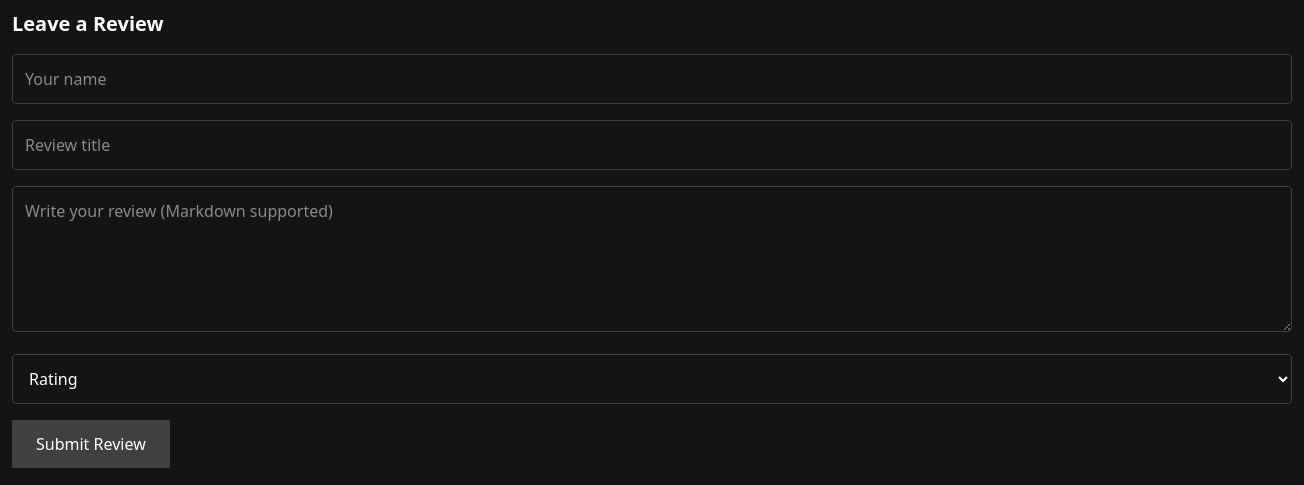
Scenario: ReviewForm › enables the submit button when the form is valid
Type "John Doe" into the field with placeholder "Your name".
click(652, 79); type("John Doe")  # box [12,54,1292,104]
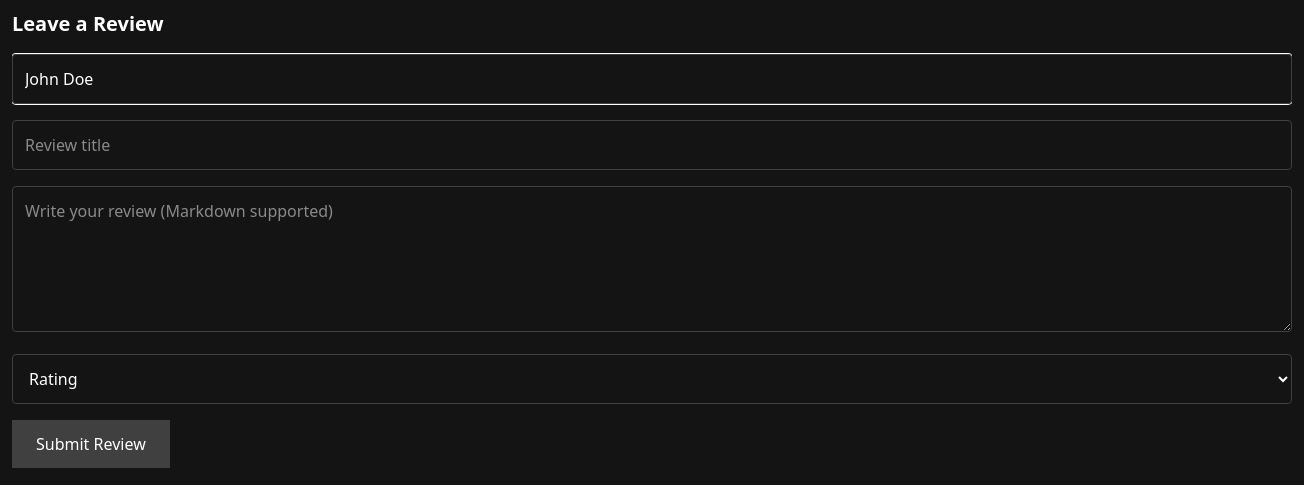
Type "Great Show" into the field with placeholder "Review title".
click(652, 145); type("Great Show")  # box [12,120,1292,170]
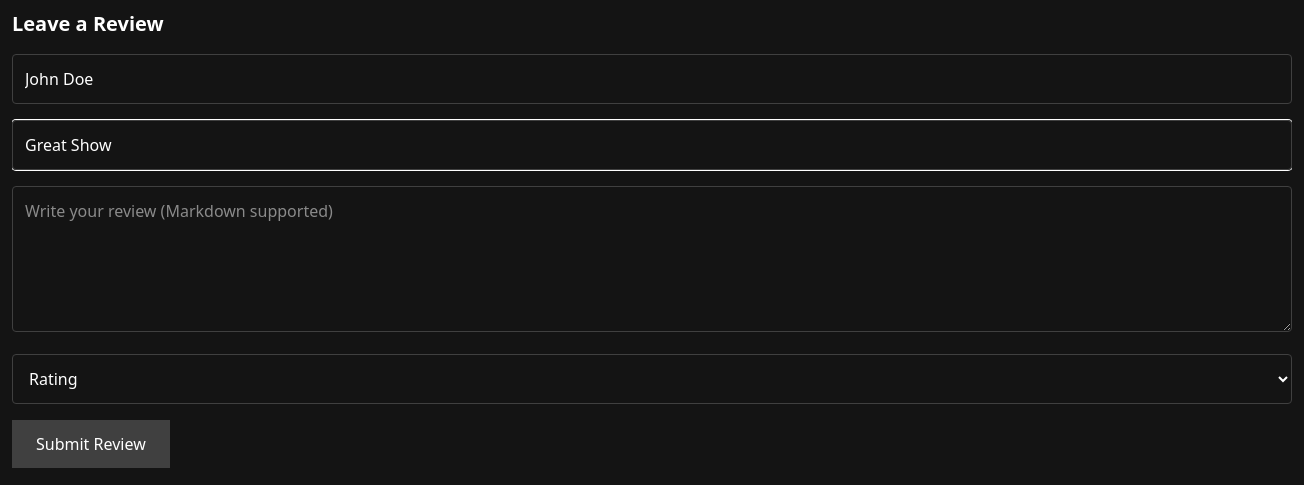
Type "This is a long enough review for testing." into the text box with placeholder "Write your review (Markdown supported)".
click(652, 259); type("This is a long enough review for testing.")  # box [12,186,1292,332]
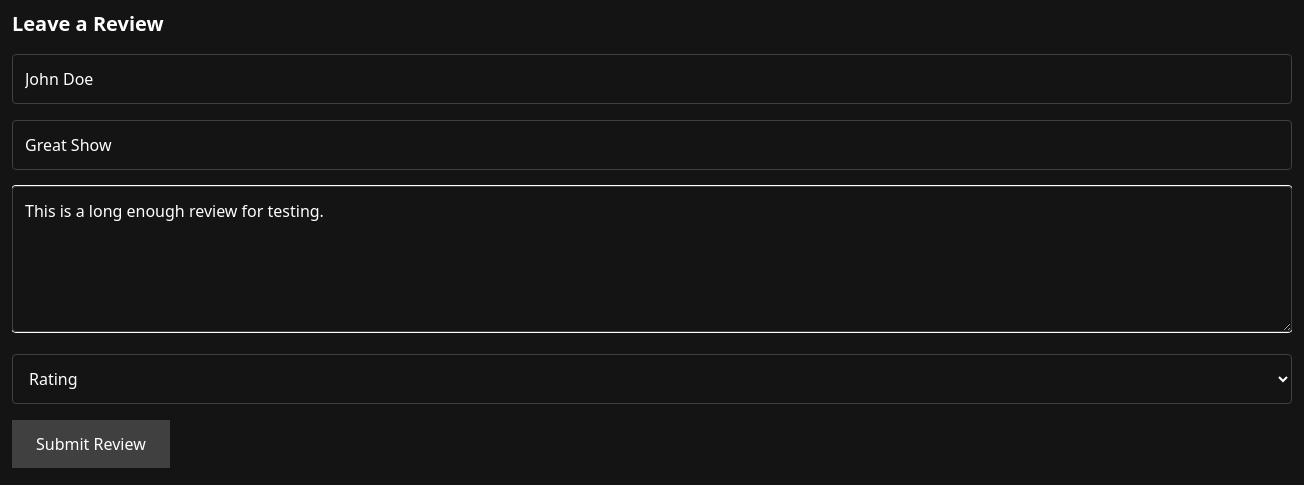
Select "5" in the dropdown at (652, 379), box [12,354,1292,404]
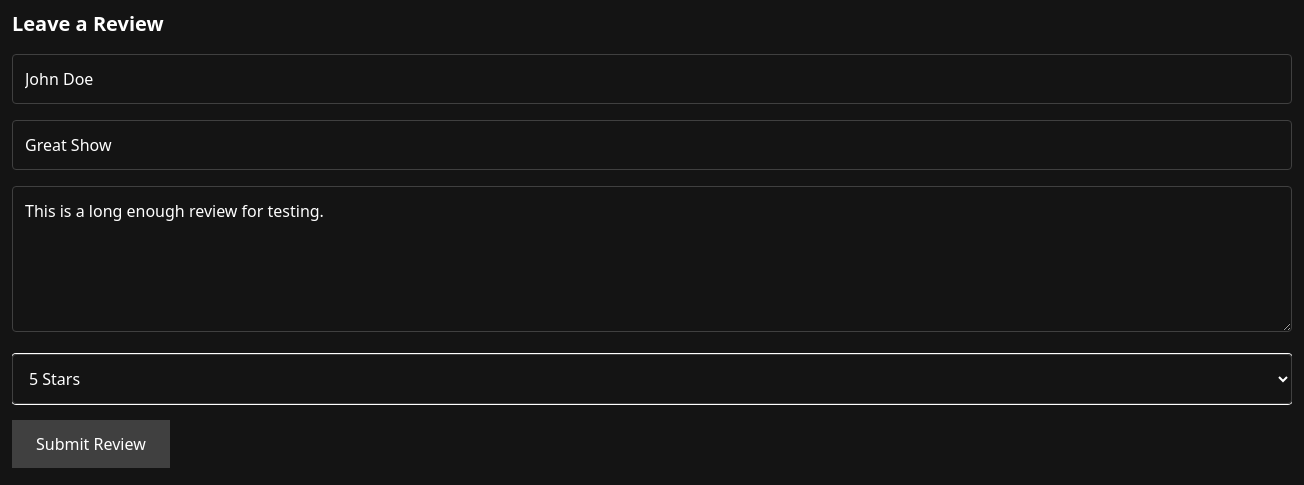
Note: Blur all fields to trigger validation
Press Tab
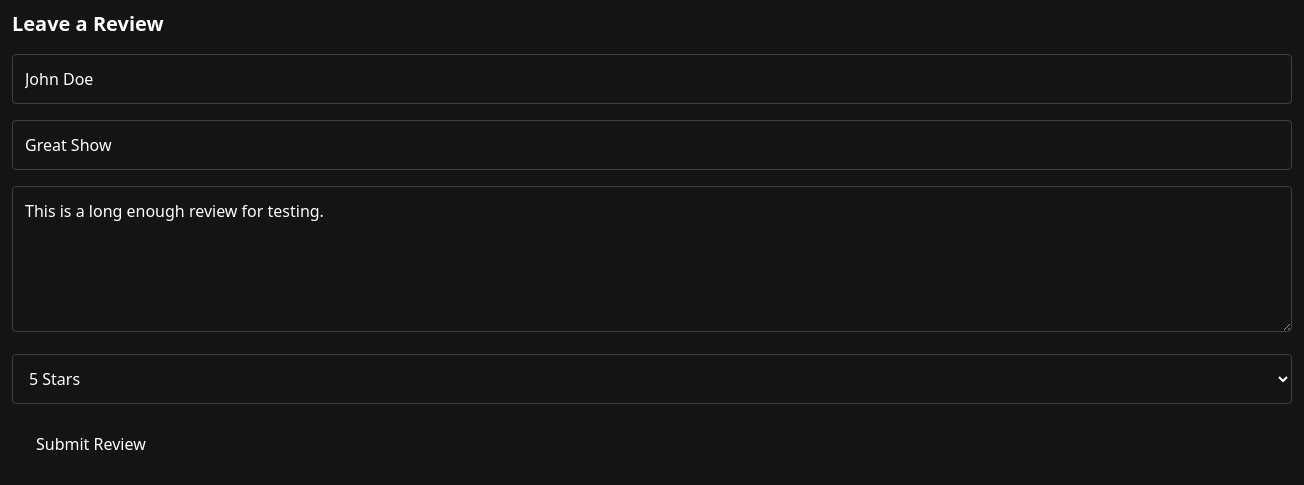
Now the button "Submit Review" is enabled, box [12,420,170,468]
